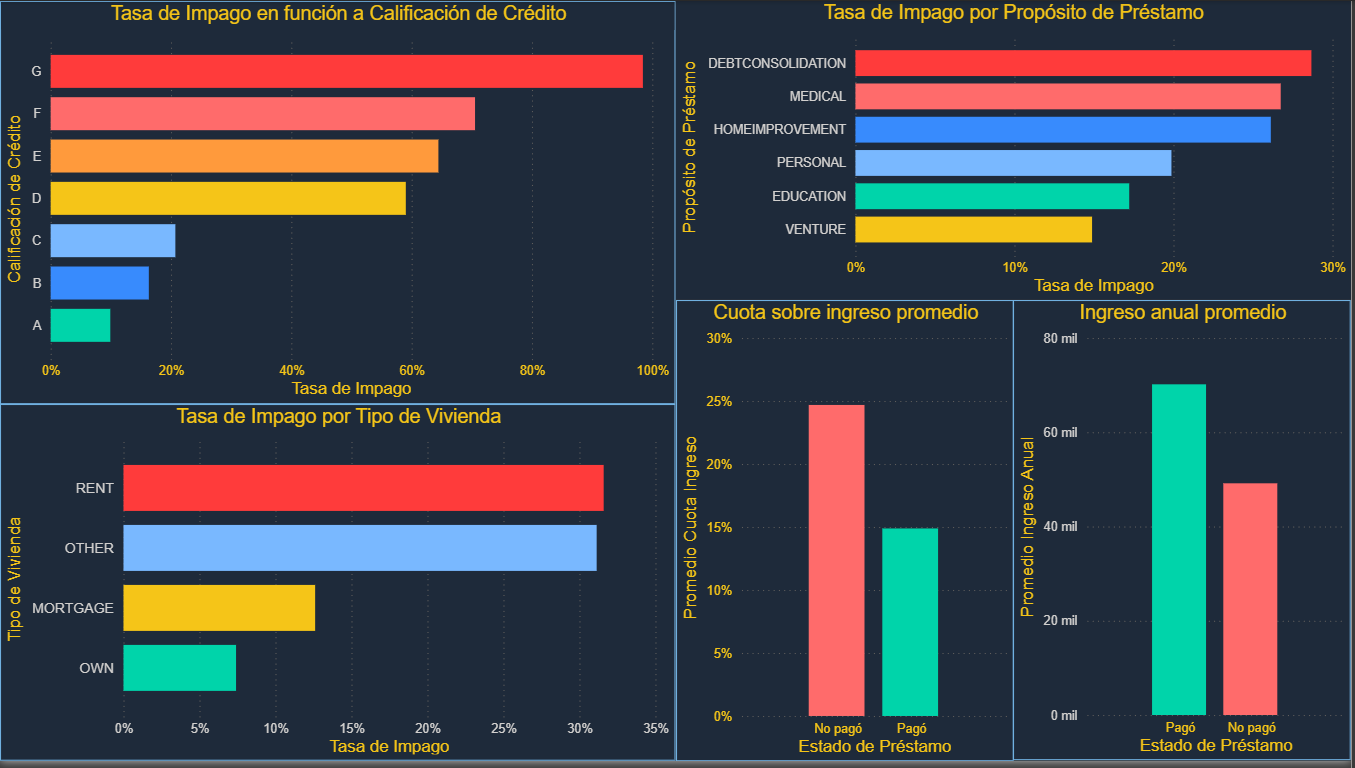

This screenshot's page, from the dashboard's own definition file:
{"tool":"powerbi","page":{"name":"Perfil del solicitante riesgoso","canvas":[1280,720],"ordinal":1},"visuals":[{"type":"barChart","title":"Tasa de Impago en función a Calificación de Crédito","fields":{"Category":["lendsmart stg2_loan_applications.calificacion_credito"],"Y":["lendsmart stg2_loan_applications.Tasa de Impago"]},"box":[0,0,640,381.8],"z":0},{"type":"barChart","title":"Tasa de Impago por Propósito de Préstamo","fields":{"Category":["lendsmart stg2_loan_applications.proposito_prestamo"],"Y":["lendsmart stg2_loan_applications.Tasa de Impago"]},"box":[640,0,640,283.1],"z":1},{"type":"clusteredBarChart","title":"Tasa de Impago por Tipo de  Vivienda","fields":{"Category":["lendsmart stg2_loan_applications.tipo_vivienda"],"Y":["lendsmart stg2_loan_applications.Tasa de Impago"]},"box":[0,381.8,640,338.4],"z":2},{"type":"columnChart","title":"Cuota sobre ingreso promedio","fields":{"Category":["lendsmart stg2_loan_applications.Estado"],"Y":["lendsmart stg2_loan_applications.Promedio Cuota Ingreso"]},"box":[640,283.1,320,437.1],"z":3},{"type":"clusteredColumnChart","title":"Ingreso anual promedio","fields":{"Category":["lendsmart stg2_loan_applications.Estado"],"Y":["lendsmart stg2_loan_applications.Promedio Ingreso Anual"]},"box":[960,283.1,320,436.2],"z":4}]}

Visuals, with their boxes in screenshot pixels (x1, y1, x2, y2), scaled from the page's 1280x720 canvas onto the 1355x768 screenshot:
"Tasa de Impago en función a Calificación de Crédito" barChart: <region>0, 0, 678, 407</region>
"Tasa de Impago por Propósito de Préstamo" barChart: <region>678, 0, 1354, 302</region>
"Tasa de Impago por Tipo de  Vivienda" clusteredBarChart: <region>0, 407, 678, 767</region>
"Cuota sobre ingreso promedio" columnChart: <region>678, 302, 1016, 767</region>
"Ingreso anual promedio" clusteredColumnChart: <region>1016, 302, 1354, 767</region>
